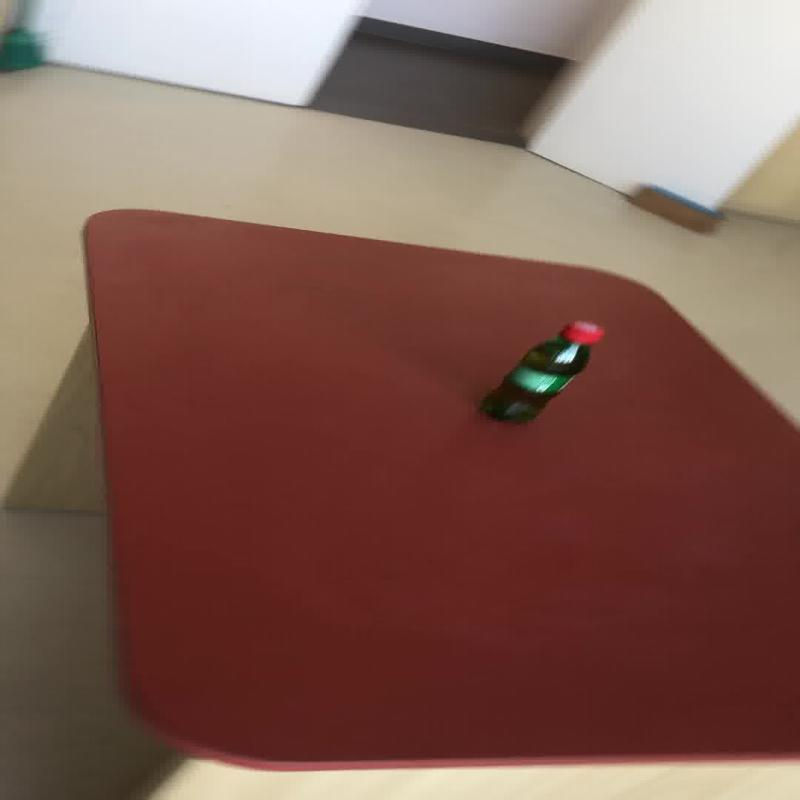guarana: (476, 318, 604, 424)
